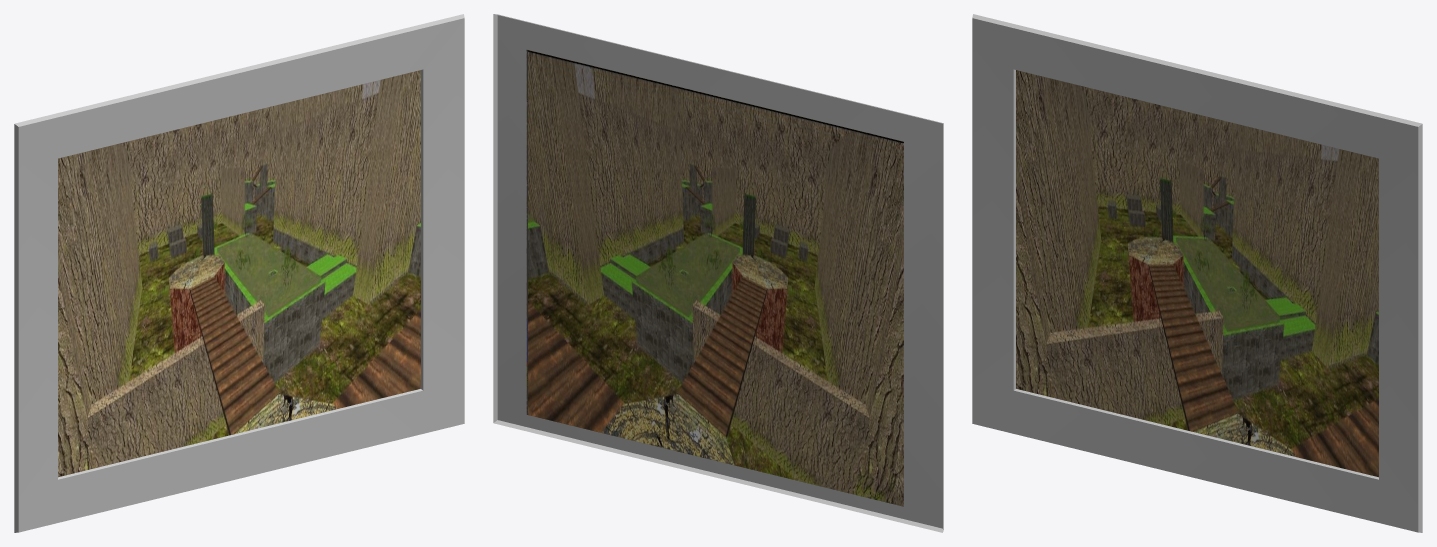
File: stage_frame2.obj
3 views of the same model, side by side, from view 1: azimuth 30°, elevation 25°; view 2: azimuth 150°, elevation 25°; view 3: azimuth 330°, elevation 25° (orthographic).
Parts seen in each view (by area): view 1: Plane_Plane.001; view 2: Plane_Plane.001; view 3: Plane_Plane.001.
Part boxes in pixels (x1,y1,x2,y2): Plane_Plane.001: (14, 14, 464, 532); Plane_Plane.001: (493, 14, 943, 532); Plane_Plane.001: (972, 14, 1422, 532).
Bounding box in the file's own units: 6.98 × 6.07 × 0.0691.
